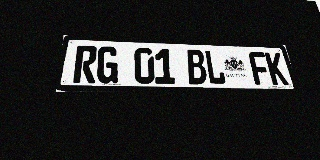0: (134, 47, 155, 84)
1: (154, 48, 175, 84)
B: (185, 49, 208, 84)
F: (248, 52, 272, 85)
G: (96, 46, 118, 83)
K: (264, 52, 289, 85)
L: (204, 50, 226, 84)
R: (73, 45, 98, 83)
